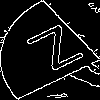Z: (25, 24, 95, 79)
